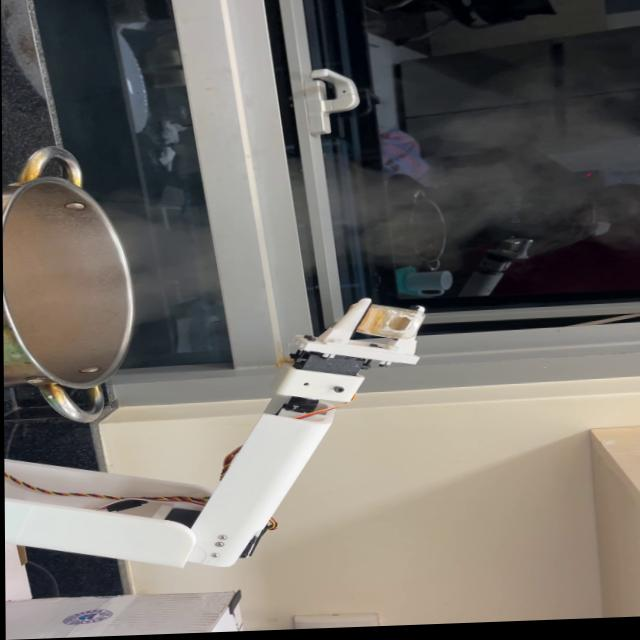cooking_pot: (1, 144, 138, 425)
